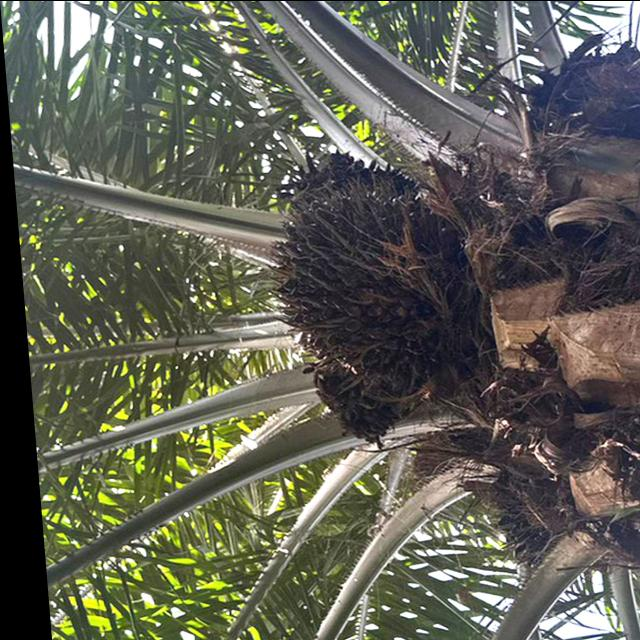ripe: (243, 153, 487, 414)
